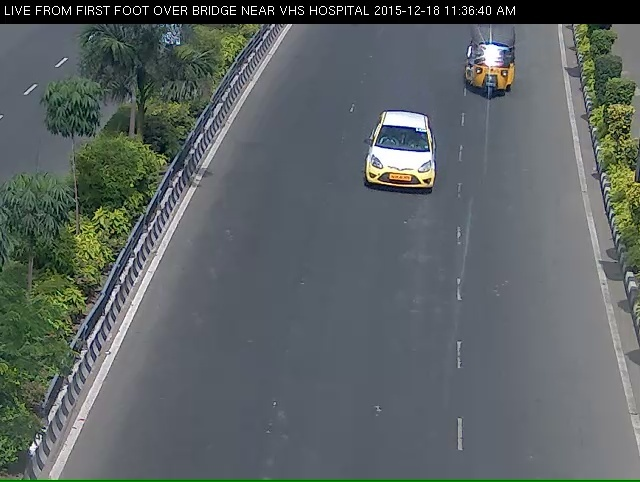Car: (341, 120, 462, 215), (461, 37, 525, 113)
